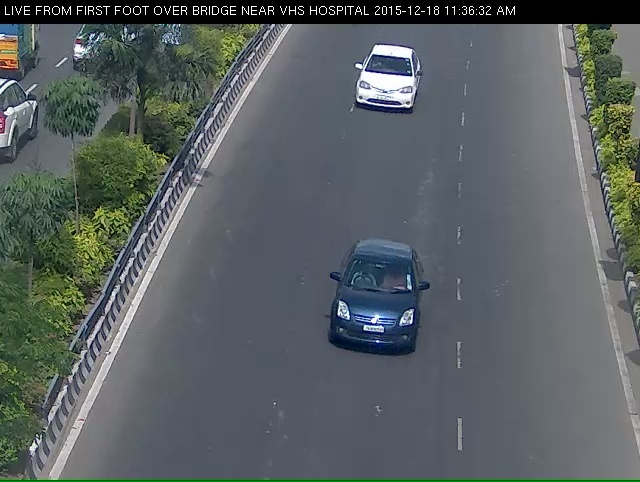Car: (314, 260, 444, 420), (326, 53, 427, 137)
